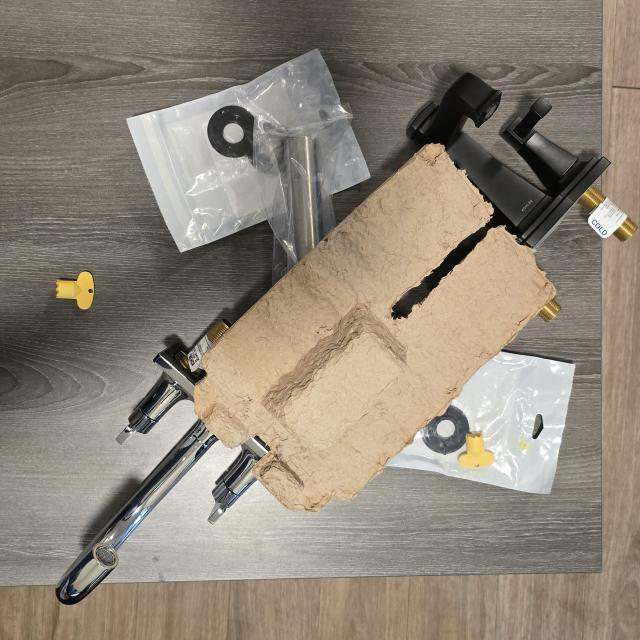10o: (56, 419, 218, 604), (116, 320, 229, 442), (208, 436, 269, 524)
11o: (255, 118, 340, 284)
12o: (388, 352, 575, 493)
13o: (127, 49, 352, 252), (331, 127, 370, 193)
14: (56, 271, 94, 309)
9o: (406, 73, 637, 247), (538, 298, 561, 321)
